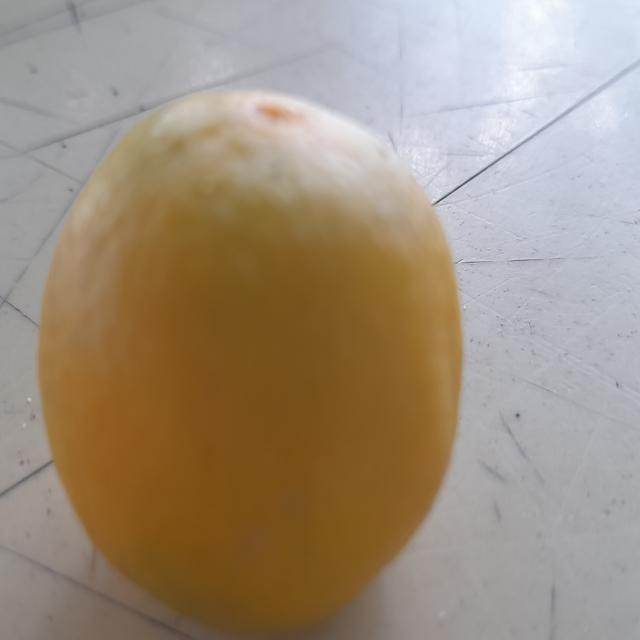greening: (22, 70, 468, 640)
